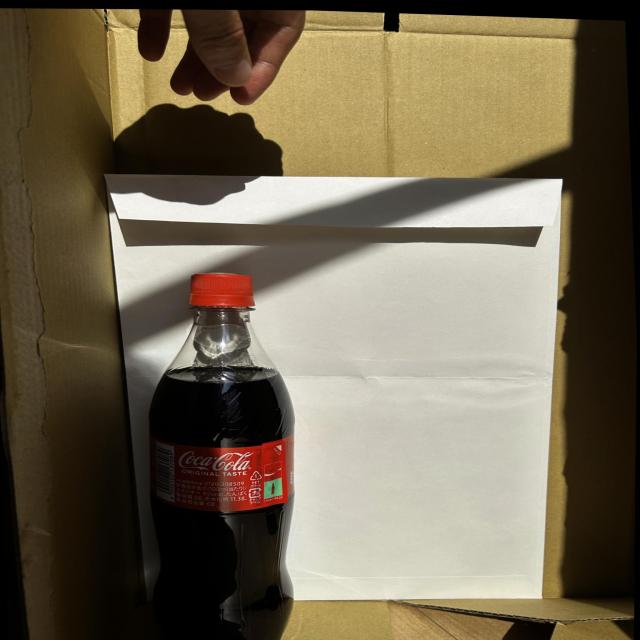high: (149, 272, 295, 640)
